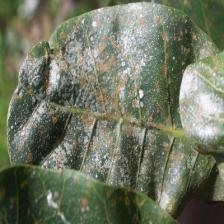red rust: (5, 1, 223, 220)
